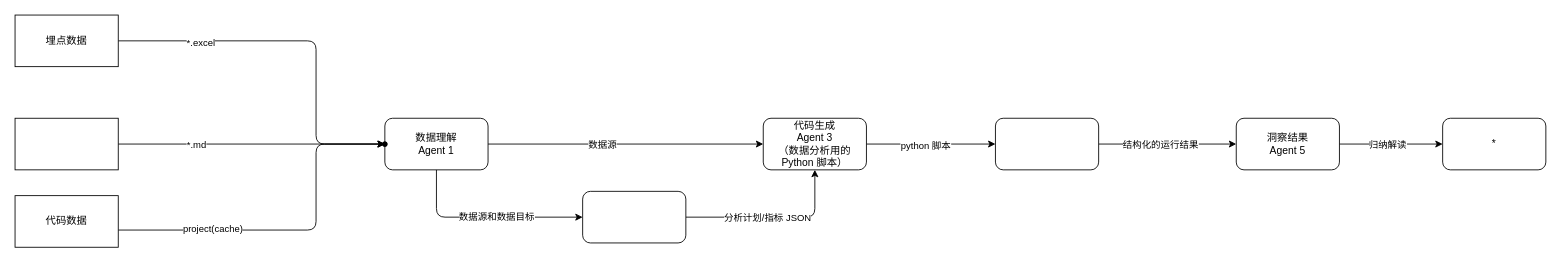
Image size: 1561x262. Some labels were removed from this diagram. The shapes that lost their labels are listed below. From the top down, each one's centre as x and y in pixels, then its label:
the point at 66,143: 文档数据
the point at 1047,143: 沙盒代码执行 Agent 4
the point at 634,216: 策略分析 Agent 2
